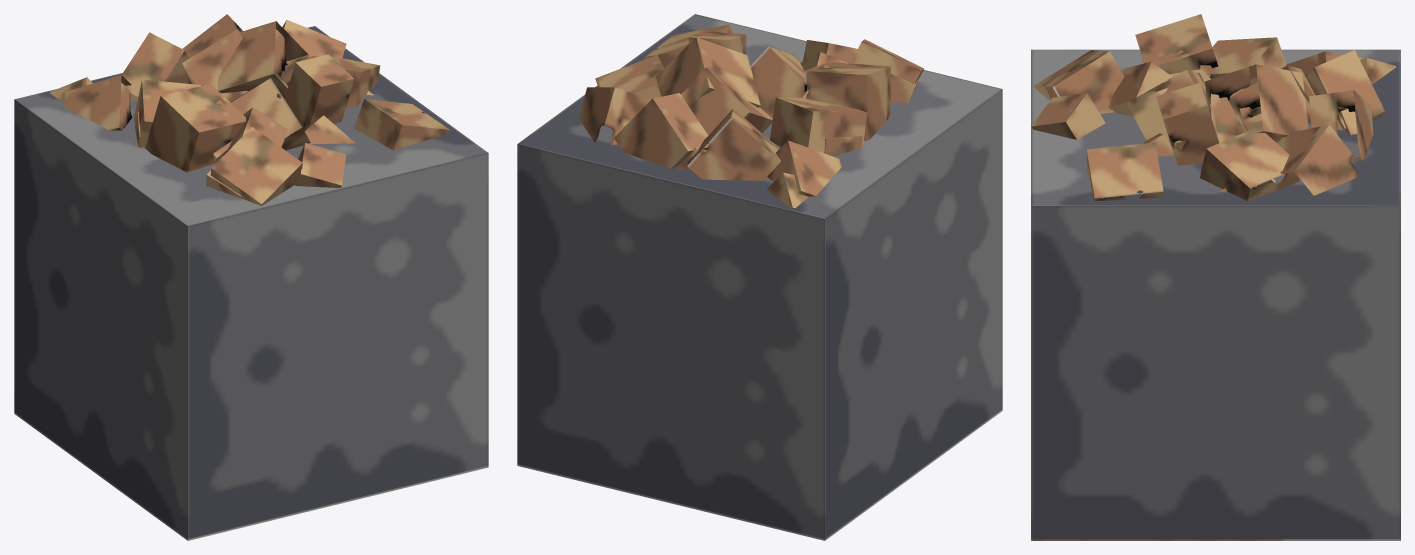
The model's file is custom_model.obj.
3 views of the same model, side by side, from view 1: azimuth 30°, elevation 25°; view 2: azimuth 150°, elevation 25°; view 3: azimuth 270°, elevation 25° (orthographic). The views are drawn at different scales.
Parts seen in each view (by area): view 1: cube; view 2: cube; view 3: cube.
Boxes of the visible parts, x1,y1,x2,y2 form: cube: (14, 14, 488, 540); cube: (517, 14, 1002, 540); cube: (1031, 14, 1400, 540).
Size of the model in its own units: 1 by 1.26 by 1.
